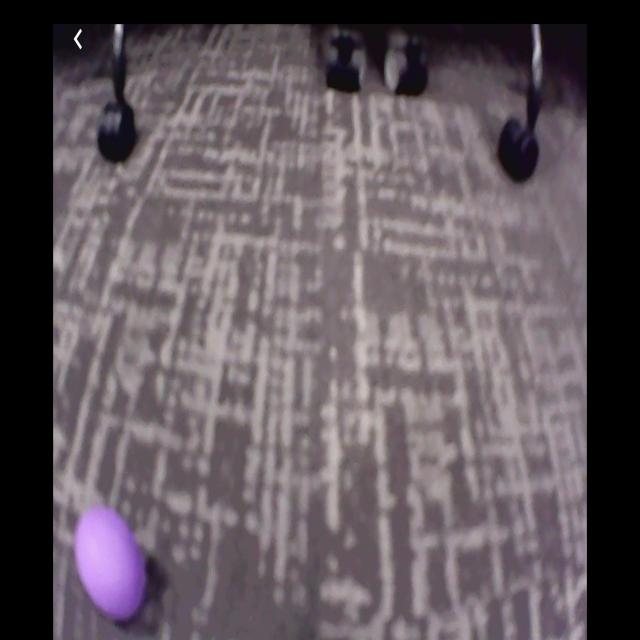ball: (77, 507, 148, 619)
